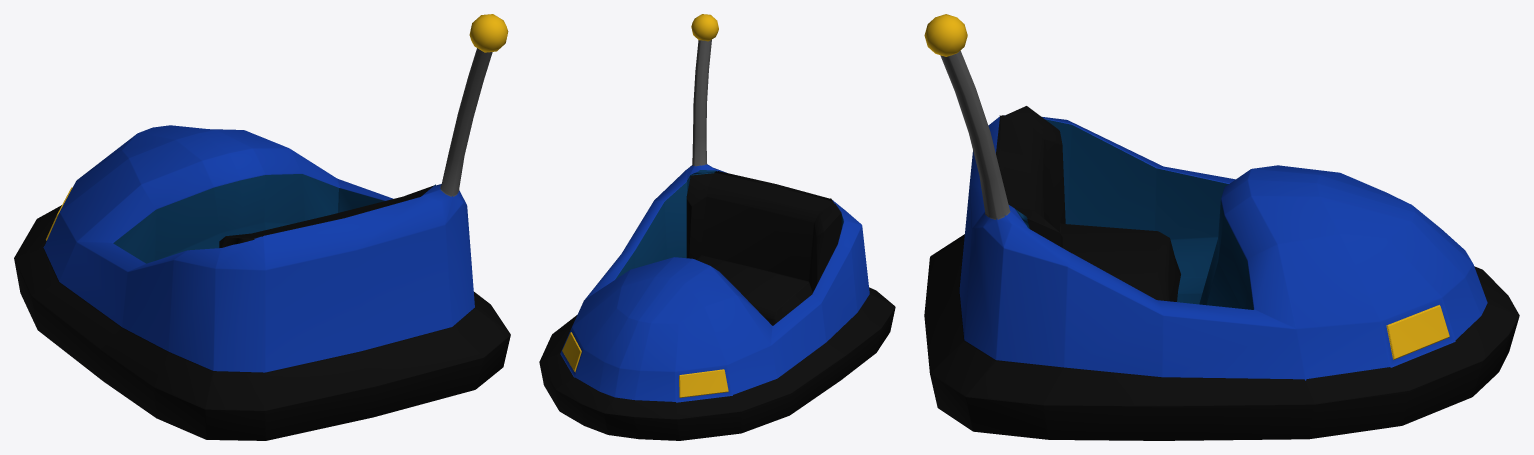
The model's file is Auto_bleu_v1_003.FBX.
The picture shows the model from 3 angles, left to right: view 1: azimuth 30°, elevation 25°; view 2: azimuth 150°, elevation 25°; view 3: azimuth 270°, elevation 25°; orthographic projection. The views are drawn at different scales.
Parts seen in each view (by area): view 1: BumperCar003, GeoSphere002; view 2: BumperCar003, GeoSphere002; view 3: BumperCar003, GeoSphere002.
Boxes of the visible parts, x1,y1,x2,y2 form: BumperCar003: [14, 48, 510, 440]; GeoSphere002: [469, 14, 508, 52]; BumperCar003: [539, 39, 895, 440]; GeoSphere002: [691, 14, 718, 41]; BumperCar003: [924, 51, 1519, 440]; GeoSphere002: [924, 14, 967, 56].
Size of the model in its own units: 59.47 by 62.28 by 82.37.
